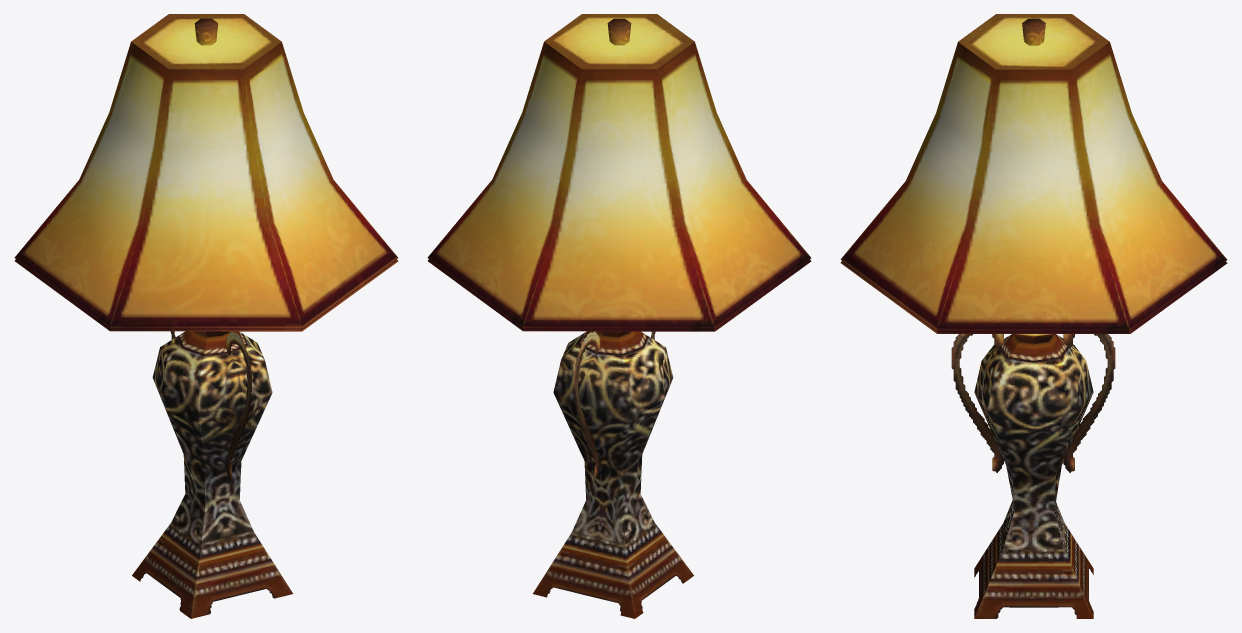
File: furni_0201200.FBX
3 renders of one model, left to right at view 1: azimuth 30°, elevation 25°; view 2: azimuth 150°, elevation 25°; view 3: azimuth 270°, elevation 25°, orthographic.
Visible parts, largest first — view 1: furni_0201200; view 2: furni_0201200; view 3: furni_0201200.
Boxes of the visible parts, x1,y1,x2,y2 form: furni_0201200: (14,14,398,618); furni_0201200: (427,14,811,618); furni_0201200: (840,14,1227,618).
Bounding box in the file's own units: 51.55 × 96.18 × 59.47.
Materials: 1 (1 with a texture image).
